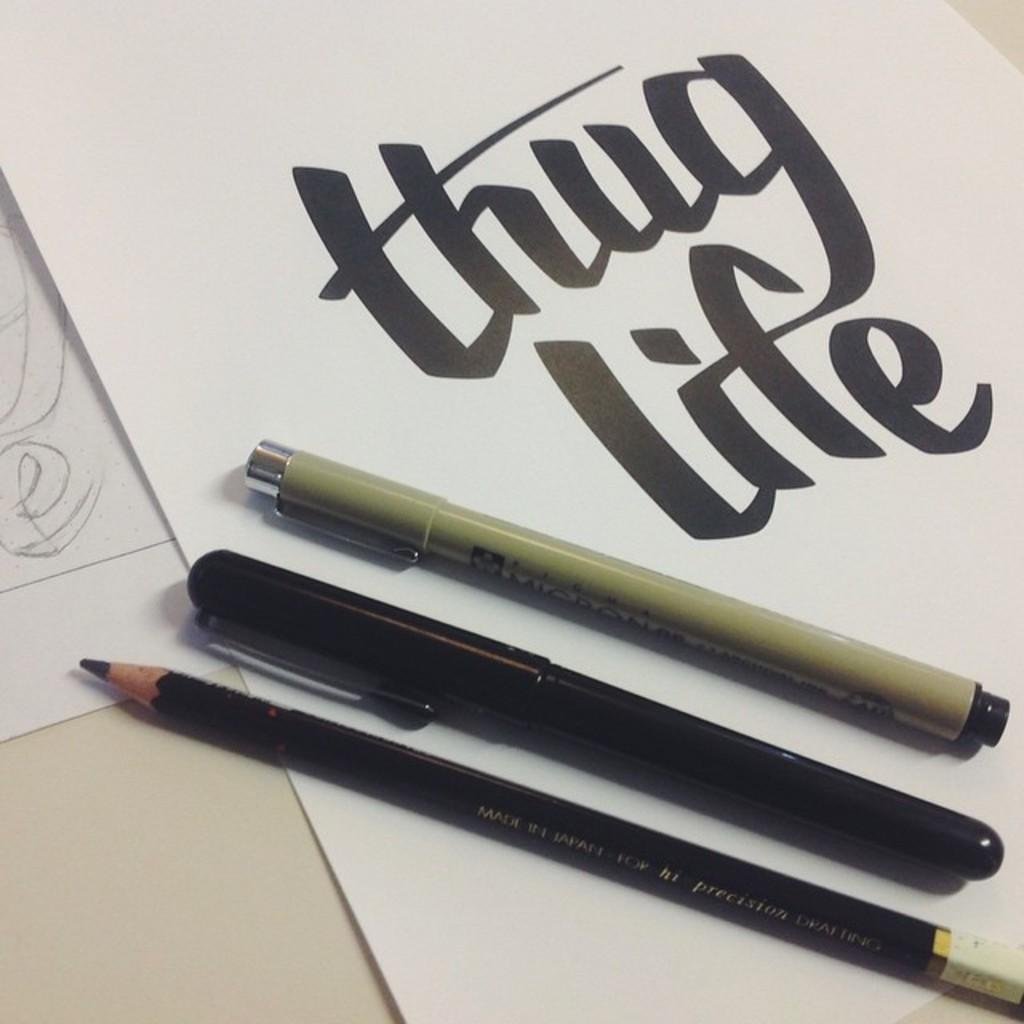pen: (176, 544, 1013, 886), (232, 440, 1006, 758)
